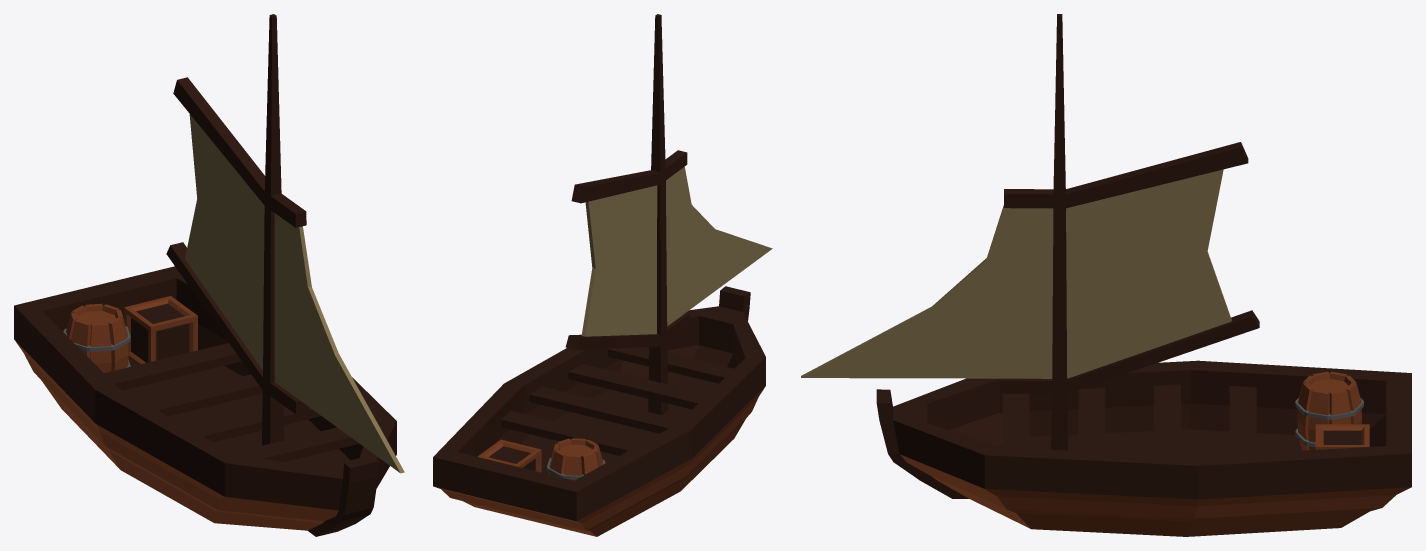
File: BoatWSail.obj
3 renders of one model, left to right at view 1: azimuth 30°, elevation 25°; view 2: azimuth 150°, elevation 25°; view 3: azimuth 270°, elevation 25°, orthographic. The views are drawn at different scales.
Visible parts, largest first — view 1: Boat_Cube, Sail_Cube.005; view 2: Boat_Cube, Sail_Cube.005; view 3: Boat_Cube, Sail_Cube.005.
Part boxes in pixels (box(x1,y1,x2,y2)): Boat_Cube: box(14, 266, 396, 536); Sail_Cube.005: box(166, 14, 404, 473); Boat_Cube: box(433, 286, 765, 536); Sail_Cube.005: box(565, 14, 772, 415); Boat_Cube: box(876, 360, 1411, 536); Sail_Cube.005: box(801, 14, 1259, 450).
Bounding box in the file's own units: 0.4032 × 0.8547 × 0.989.
